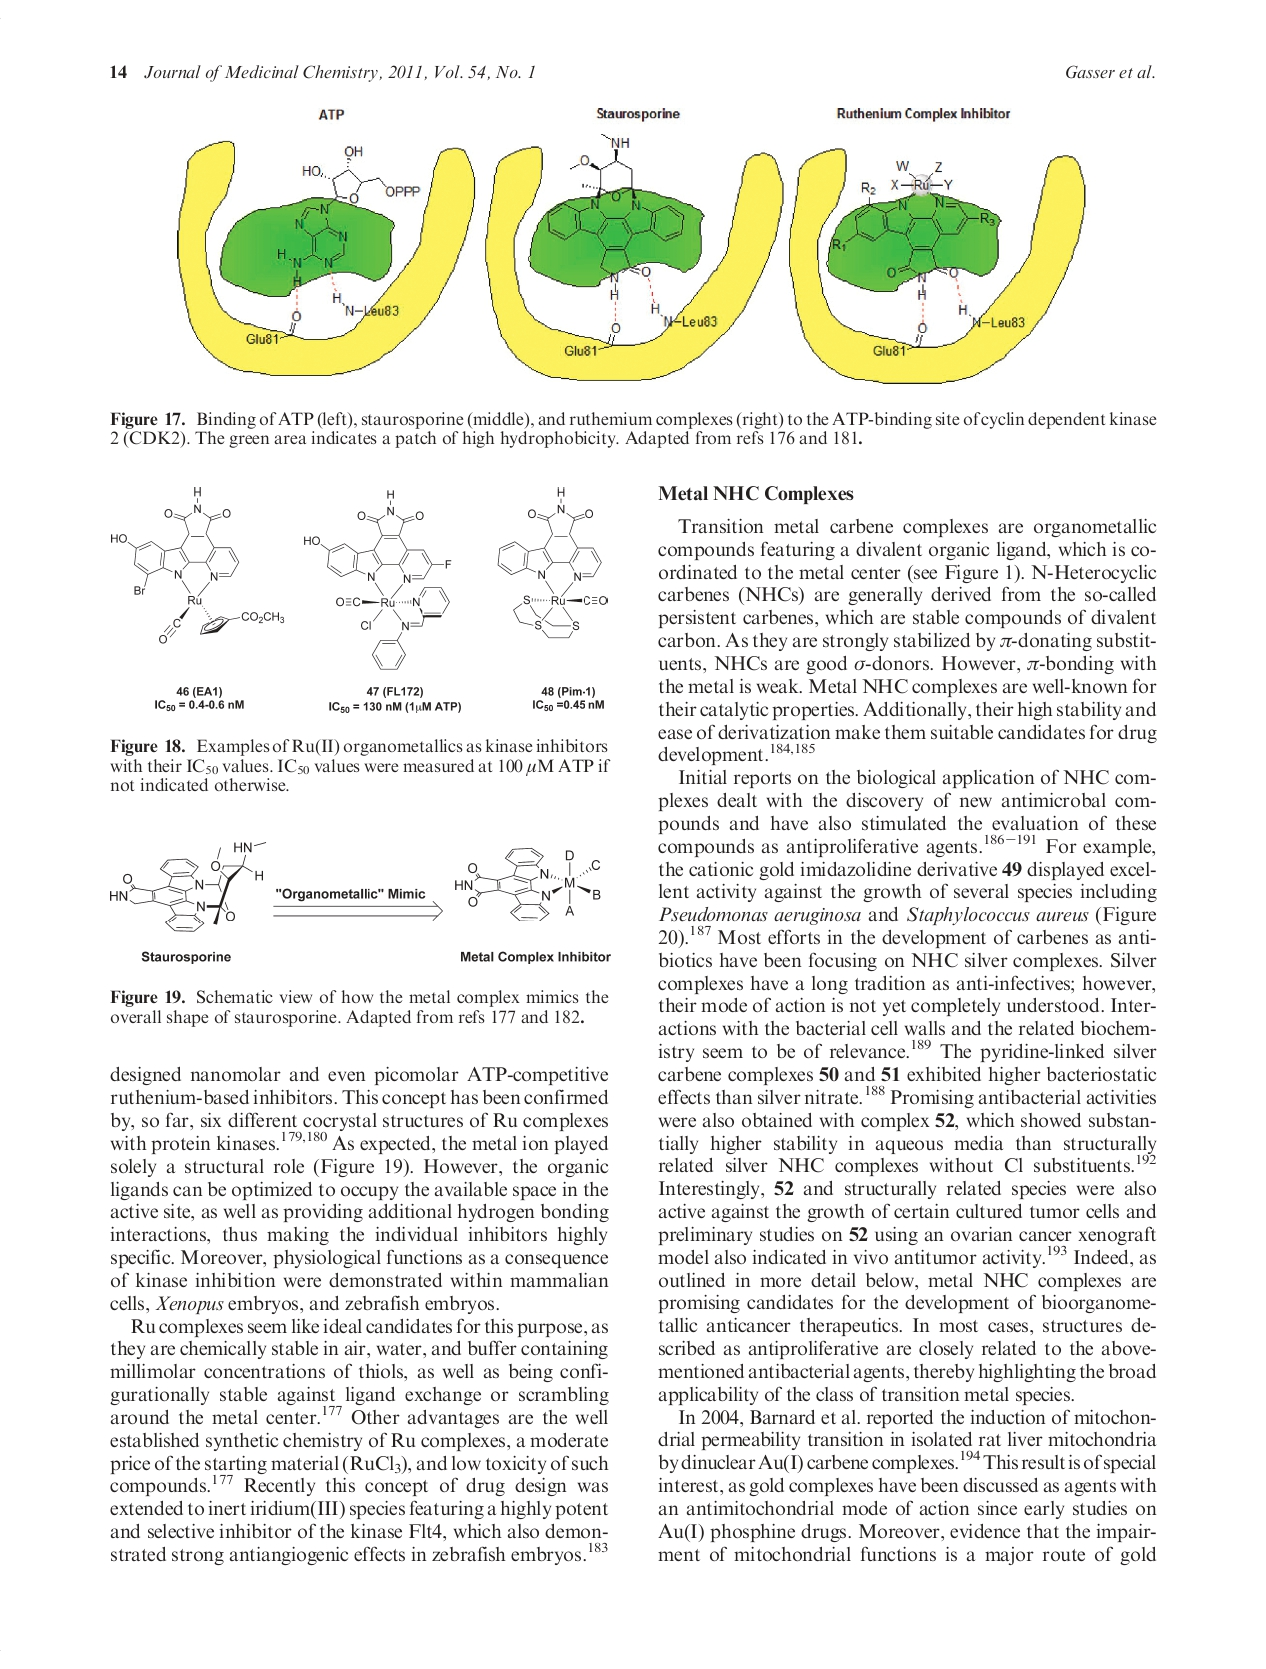exist_molecular: (544, 132, 722, 358), (828, 158, 1029, 358), (243, 144, 422, 348), (109, 484, 286, 645), (302, 487, 453, 674), (497, 485, 610, 644), (106, 838, 270, 934), (452, 842, 605, 926)
